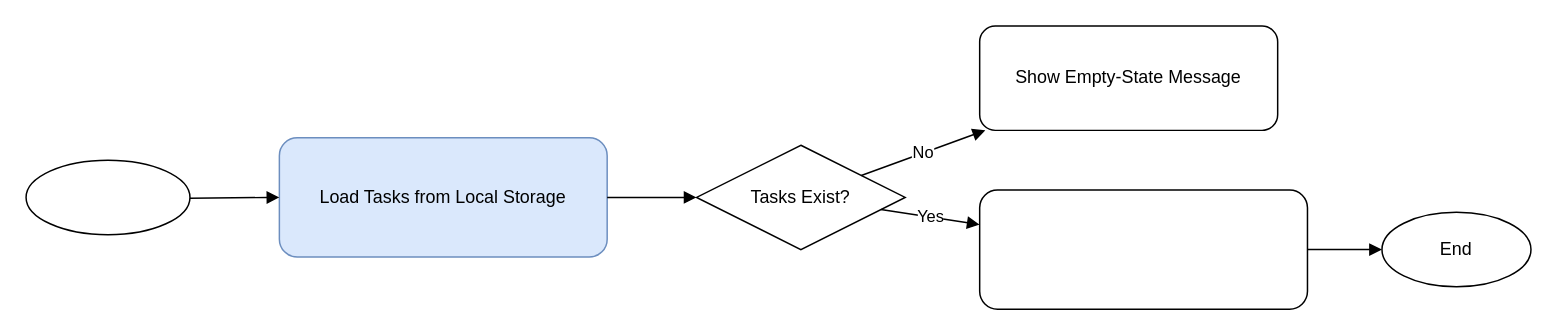
The diagram is 1557 pixels wide and 335 high, and some of its shapes have lost their labels. The shapes that lost their labels are listed below. From the top down, each one's centre as x and y in pixels, then its label:
At point (107, 197): "Open App".
At point (1142, 248): "Render Task List\n(Title, Description, Status)".
